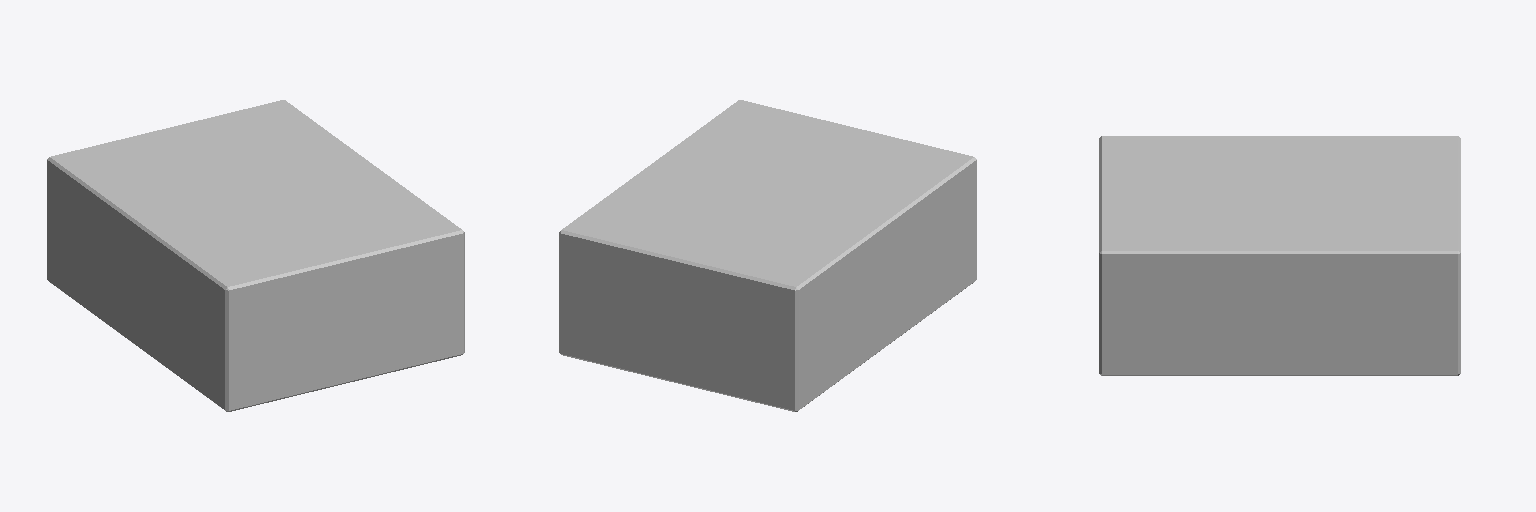
The model's file is Input_prediction_mesh.obj.
3 views of the same model, side by side, from view 1: azimuth 30°, elevation 25°; view 2: azimuth 150°, elevation 25°; view 3: azimuth 270°, elevation 25° (orthographic).
Parts seen in each view (by area): view 1: mat0; view 2: mat0; view 3: mat0.
Boxes of the visible parts, x1,y1,x2,y2 form: mat0: [47, 100, 464, 411]; mat0: [559, 100, 976, 411]; mat0: [1099, 136, 1460, 375].
Bounding box in the file's own units: 4.16 × 2.08 × 5.44.